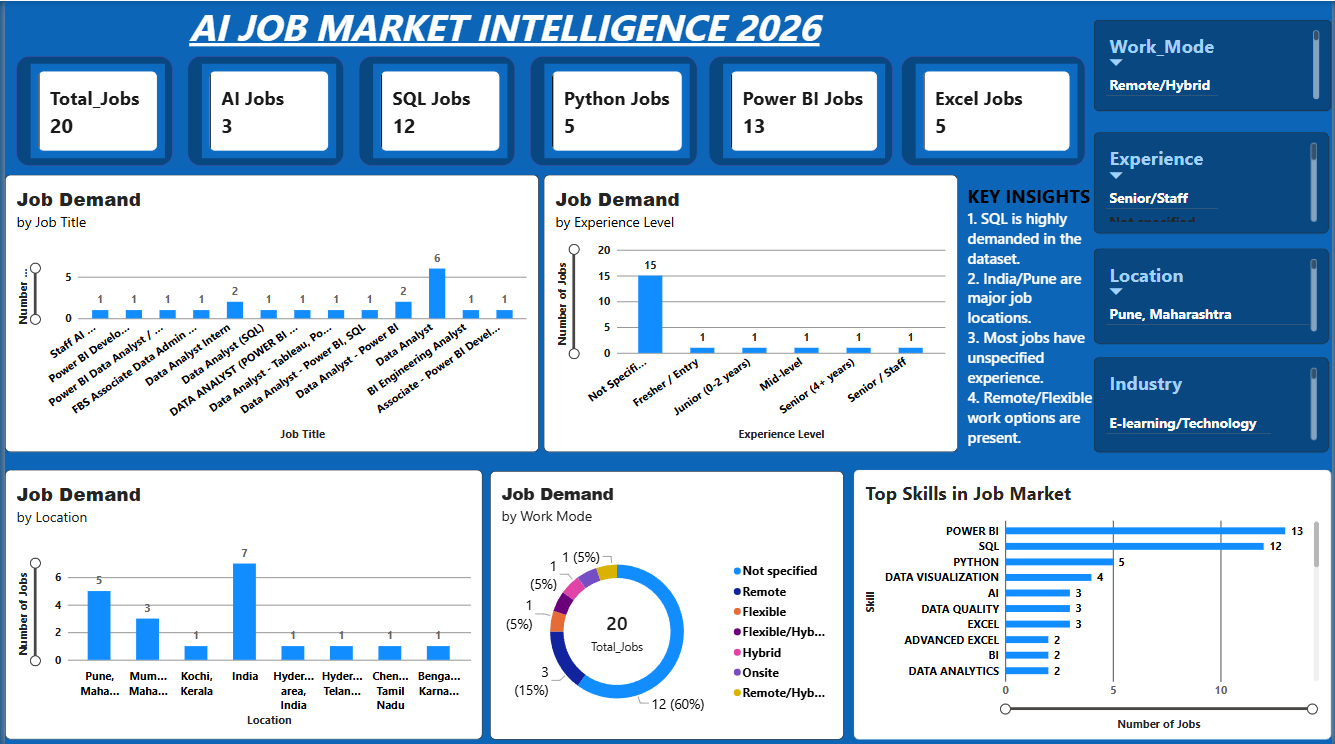

Layout of this report page (visuals, bound fields, positions):
{"tool":"powerbi","page":{"name":"Page 1","canvas":[1920,1080],"ordinal":0},"visuals":[{"type":"cardVisual","fields":{"Data":["ai_job_market3 mysql_import.Python Jobs"]},"box":[760.1,79.6,242.5,159.3],"z":0},{"type":"columnChart","title":"Job Demand","fields":{"Category":["ai_job_market3 mysql_import.Job_Title"],"Y":["ai_job_market3 mysql_import.Total_Jobs"]},"box":[0,251.5,772.7,401.7],"z":1000},{"type":"columnChart","title":"Job Demand","fields":{"Category":["ai_job_market3 mysql_import.Location"],"Y":["ai_job_market3 mysql_import.Total_Jobs"]},"box":[0,678.6,691.3,390],"z":2000},{"type":"donutChart","title":"Job Demand","fields":{"Category":["ai_job_market3 mysql_import.Work_Mode"],"Y":["ai_job_market3 mysql_import.Total_Jobs"]},"box":[702.1,680.4,512.1,389.1],"z":3000},{"type":"cardVisual","fields":{"Data":["ai_job_market3 mysql_import.SQL Jobs"]},"box":[512.1,79.6,226,159],"z":4000},{"type":"cardVisual","fields":{"Data":["ai_job_market3 mysql_import.AI Jobs"]},"box":[264.2,79.6,226,159],"z":5000},{"type":"cardVisual","fields":{"Data":["ai_job_market3 mysql_import.Total_Jobs1"]},"box":[16.3,79.6,226.2,159.3],"z":6000},{"type":"columnChart","title":"Job Demand","fields":{"Category":["ai_job_market3 mysql_import.Experience_Level"],"Y":["ai_job_market3 mysql_import.Total_Jobs"]},"box":[780,251.5,599,401.7],"z":7000},{"type":"cardVisual","fields":{"Data":["ai_job_market3 mysql_import.Power BI Jobs"]},"box":[1018.8,79.6,266,159.3],"z":8000},{"type":"tableEx","fields":{"Values":["ai_job_market3 mysql_import.Work_Mode"]},"box":[1576.2,27.1,343.8,132.1],"z":9000},{"type":"tableEx","fields":{"Values":["ai_job_market3 mysql_import.Location"]},"box":[1576.2,358.3,340.2,137.5],"z":10000},{"type":"tableEx","fields":{"Values":["ai_job_market3 mysql_import.Experience"]},"box":[1576.2,190,340.2,146.6],"z":11000},{"type":"tableEx","fields":{"Values":["ai_job_market3 mysql_import.Industry"]},"box":[1576.2,515.8,340.2,137.5],"z":12000},{"type":"textbox","box":[29,0,1388,79.6],"z":13000},{"type":"clusteredBarChart","title":"Top Skills in Job Market","fields":{"Category":["ai_job_market3 mysql_import.Skill"],"Y":["ai_job_market3 mysql_import.Total_Jobs"]},"box":[1228.8,678.6,691,390],"z":13001},{"type":"cardVisual","fields":{"Data":["ai_job_market3 mysql_import.Excel Jobs"]},"box":[1297.5,79.6,266,159.3],"z":13002},{"type":"textbox","box":[1393.4,264.2,181,389.1],"z":13003}]}

Visuals, with their boxes in screenshot pixels (x1, y1, x2, y2), scaled from the page's 1920x1080 canvas onto the 1335x744 screenshot:
cardVisual - ai_job_market3 mysql_import.Python Jobs: 529/55/697/165
"Job Demand" columnChart: 0/173/537/450
"Job Demand" columnChart: 0/467/481/736
"Job Demand" donutChart: 488/469/844/737
cardVisual - ai_job_market3 mysql_import.SQL Jobs: 356/55/513/164
cardVisual - ai_job_market3 mysql_import.AI Jobs: 184/55/341/164
cardVisual - ai_job_market3 mysql_import.Total_Jobs1: 11/55/169/165
"Job Demand" columnChart: 542/173/959/450
cardVisual - ai_job_market3 mysql_import.Power BI Jobs: 708/55/893/165
tableEx - ai_job_market3 mysql_import.Work_Mode: 1096/19/1334/110
tableEx - ai_job_market3 mysql_import.Location: 1096/247/1332/342
tableEx - ai_job_market3 mysql_import.Experience: 1096/131/1332/232
tableEx - ai_job_market3 mysql_import.Industry: 1096/355/1332/450
textbox: 20/0/985/55
"Top Skills in Job Market" clusteredBarChart: 854/467/1334/736
cardVisual - ai_job_market3 mysql_import.Excel Jobs: 902/55/1087/165
textbox: 969/182/1095/450
